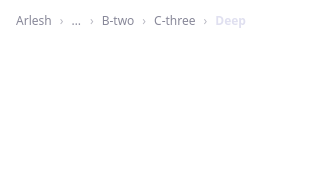
Test case: SubtreeBreadcrumb › following the bar's width › unfolds only as many levels as the new width holds
Click the button named "foldedLevels" at point(77, 20), box [71,12,82,29]
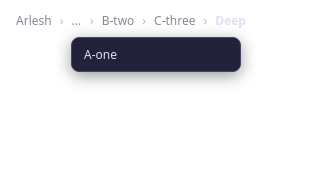
Expected: the menu items read "A-one", in this order, [76,42,236,67]
